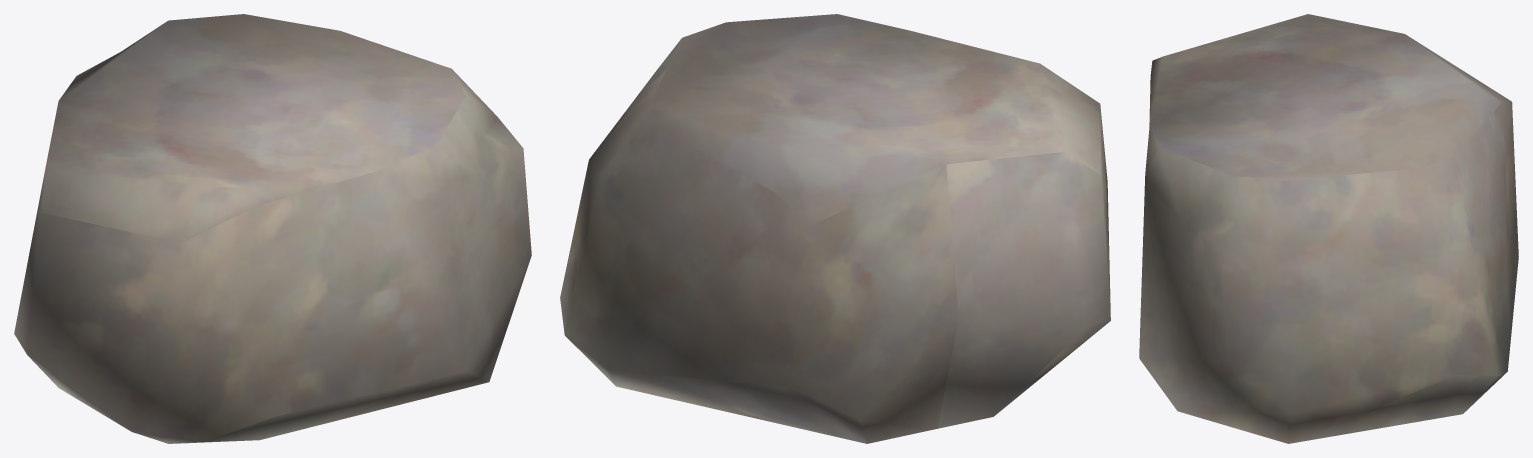
Rendered from Homeworld_Exterior_Common_Stone_Stone_13_Vo.fbx.
3 renders of one model, left to right at view 1: azimuth 30°, elevation 25°; view 2: azimuth 150°, elevation 25°; view 3: azimuth 270°, elevation 25°, orthographic. The views are drawn at different scales.
Parts seen in each view (by area): view 1: Area_Ly_Rock_HZ_Ground_S_02_Vo; view 2: Area_Ly_Rock_HZ_Ground_S_02_Vo; view 3: Area_Ly_Rock_HZ_Ground_S_02_Vo.
Part boxes in pixels (<box>): Area_Ly_Rock_HZ_Ground_S_02_Vo: <box>14,14,531,443</box>; Area_Ly_Rock_HZ_Ground_S_02_Vo: <box>560,14,1110,443</box>; Area_Ly_Rock_HZ_Ground_S_02_Vo: <box>1139,14,1518,443</box>.
Size of the model in its own units: 2.38 by 1.37 by 1.81.
